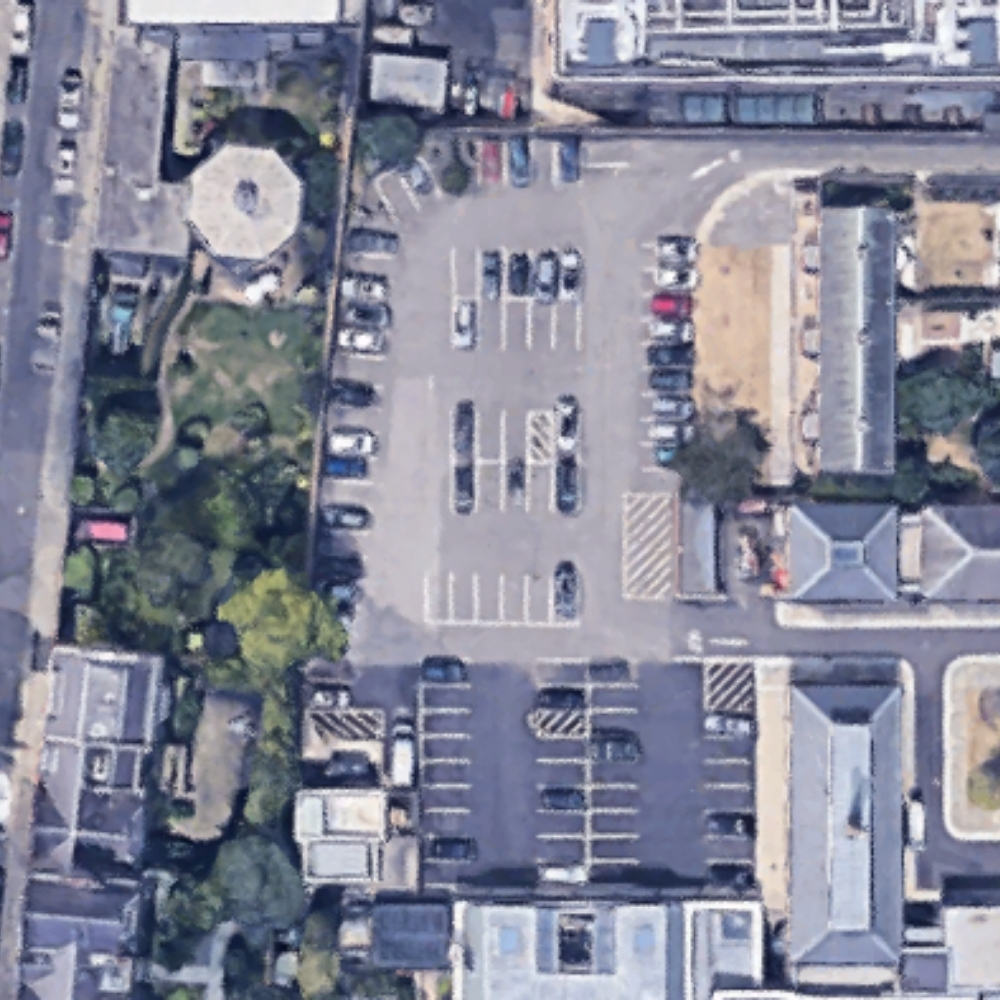parking: (300, 135, 750, 885)
